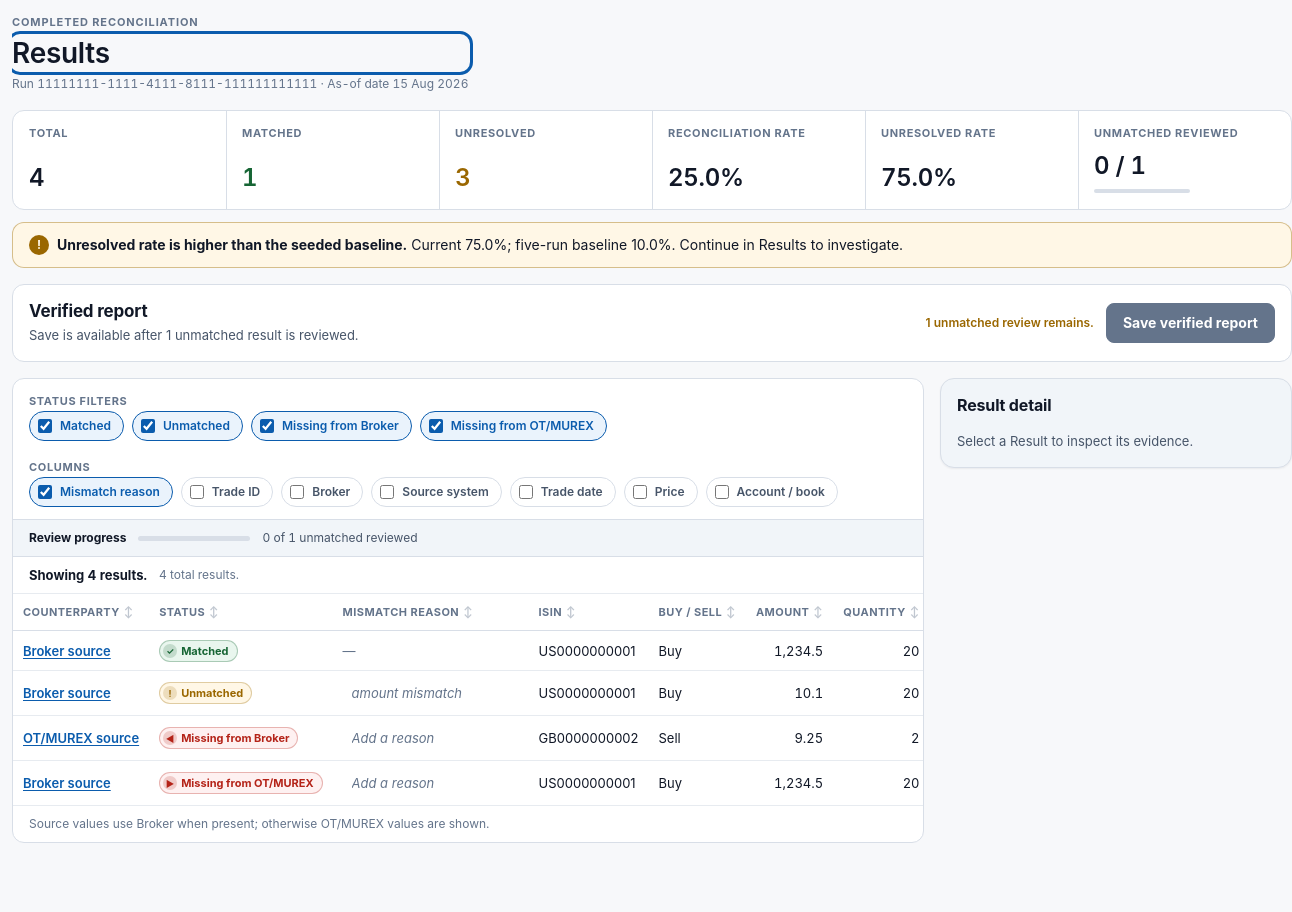
Results workspace table › reports a failed mismatch reason save against its own row and keeps the typed value
This screenshot has width=1292, height=912.
Type "Broker booked twice" into the field named "Mismatch reason for BRK-8" at (430, 693), box [342,679,518,707]
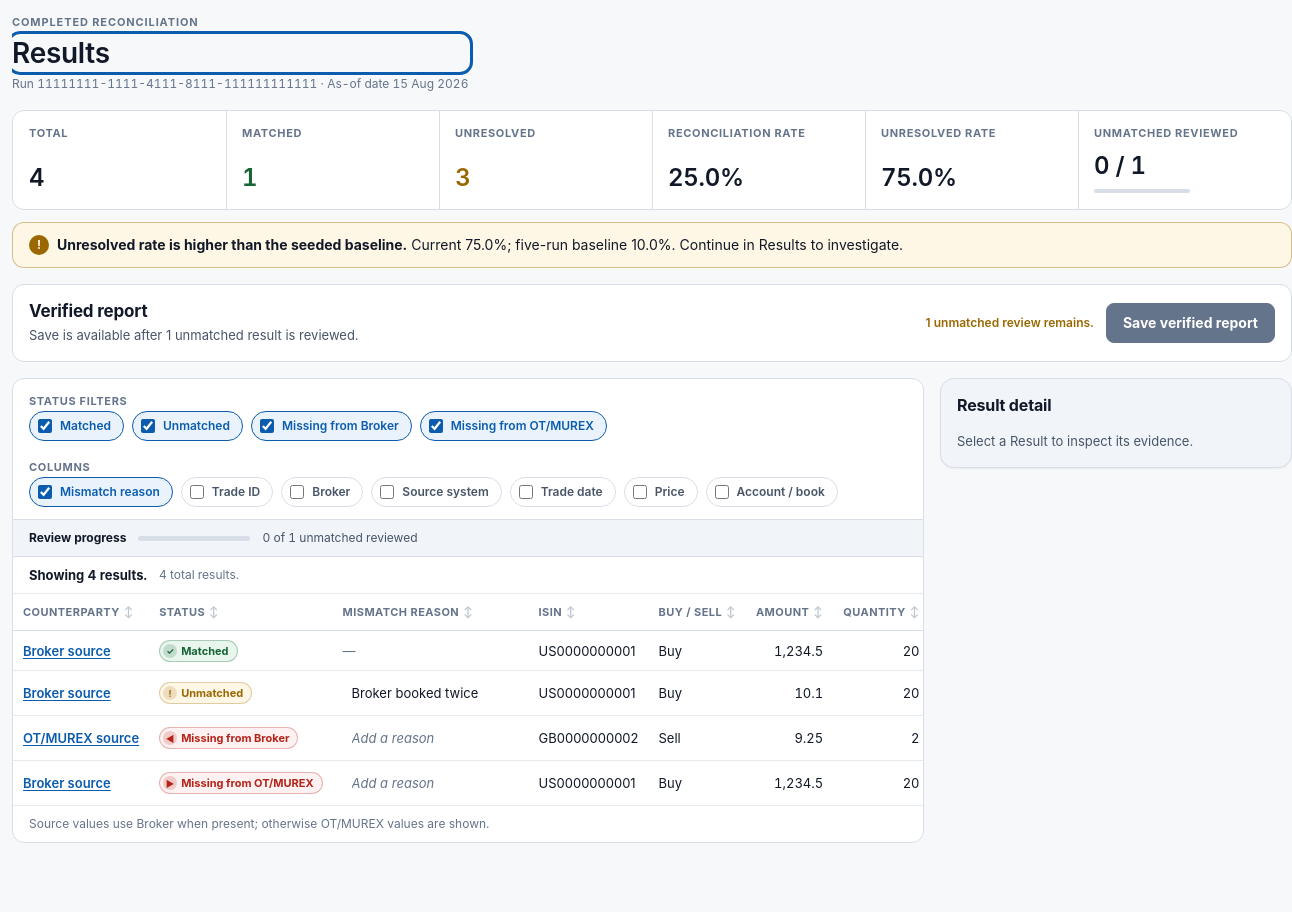
Leave the field named "Mismatch reason for BRK-8", box [342,679,518,707]
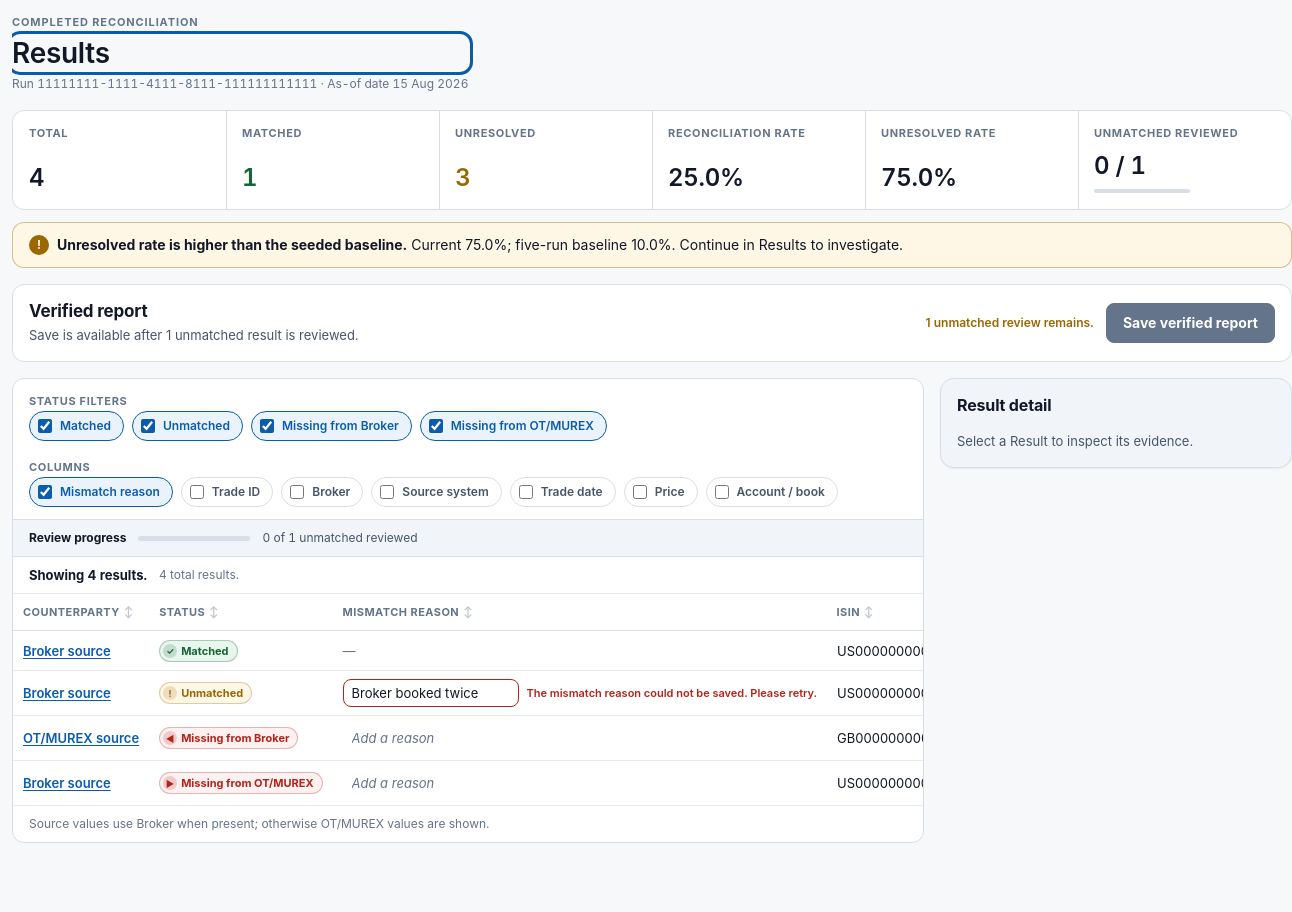
Check: the message "The mismatch reason could not be saved. Please retry." is shown, box [526,683,817,703]
